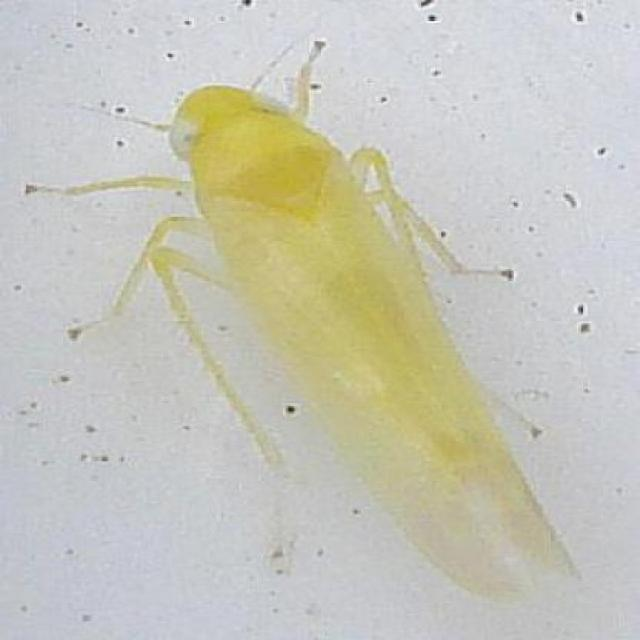green-leafhopper: (97, 70, 575, 588)
